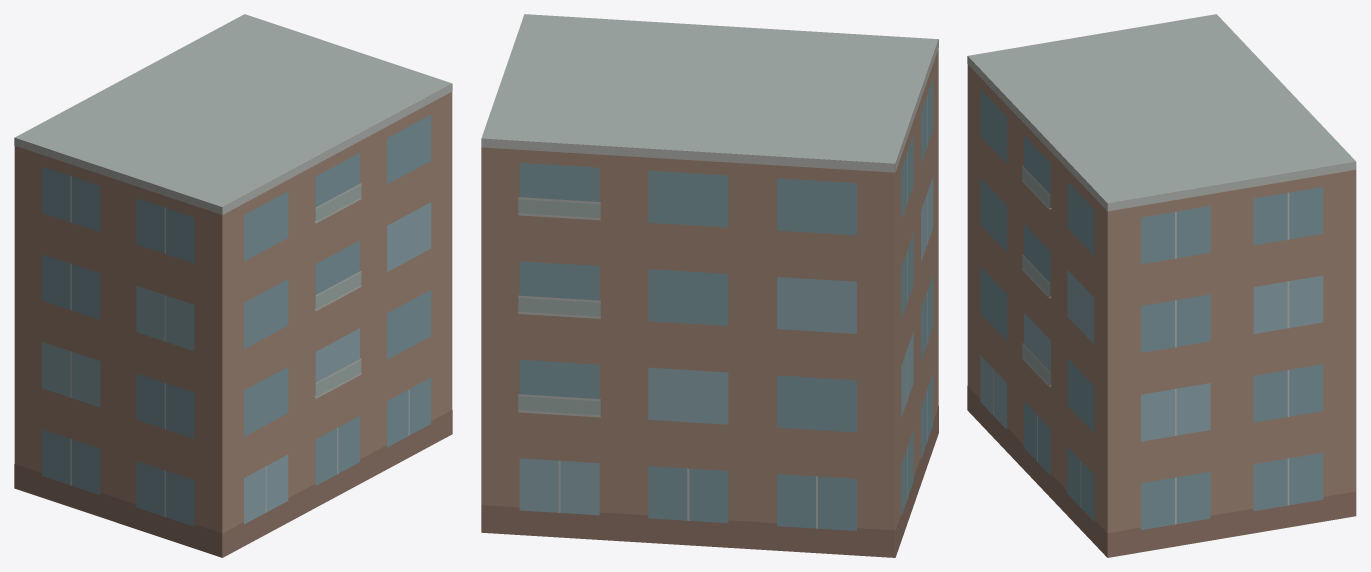
Rendered from survey-upis-32803160.glb.
3 renders of one model, left to right at view 1: azimuth 30°, elevation 25°; view 2: azimuth 150°, elevation 25°; view 3: azimuth 270°, elevation 25°, orthographic. The views are drawn at different scales.
Parts seen in each view (by area): view 1: survey-upis-32803160.tmp; view 2: survey-upis-32803160.tmp; view 3: survey-upis-32803160.tmp.
Boxes of the visible parts, left/top/right/bottom form: survey-upis-32803160.tmp: left=14, top=14, right=452, bottom=557; survey-upis-32803160.tmp: left=481, top=14, right=938, bottom=557; survey-upis-32803160.tmp: left=967, top=14, right=1356, bottom=557.
Bounding box in the file's own units: 12.39 × 10.8 × 10.75.
